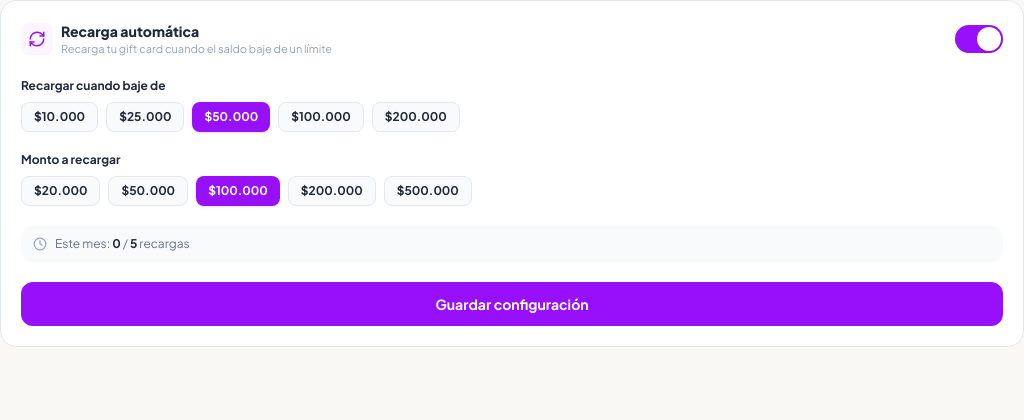
Test: AutoReloadSettings › "Guardar" button saves config via walletService
What coordinates should you click on to do the following:
click the button "Guardar configuración"
I would click on:
 (512, 304)
Its box is [21, 282, 1003, 326].
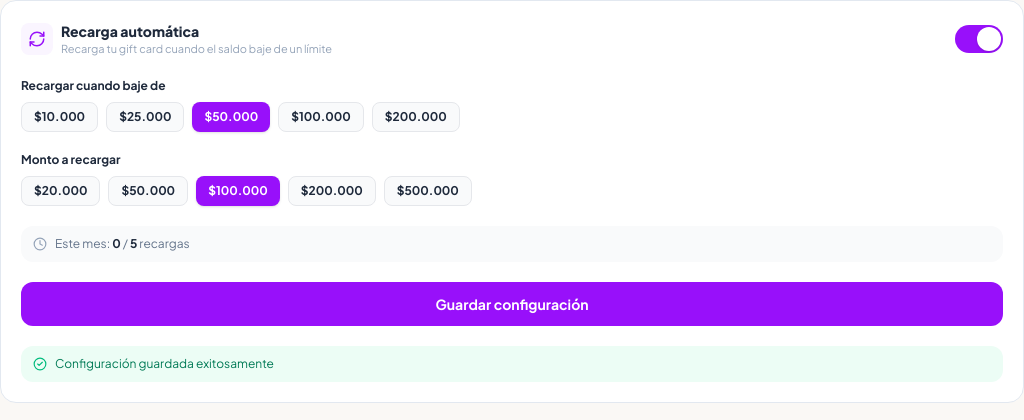
Expected: the text "Configuración guardada exitosamente" is shown, [55, 356, 274, 372]
